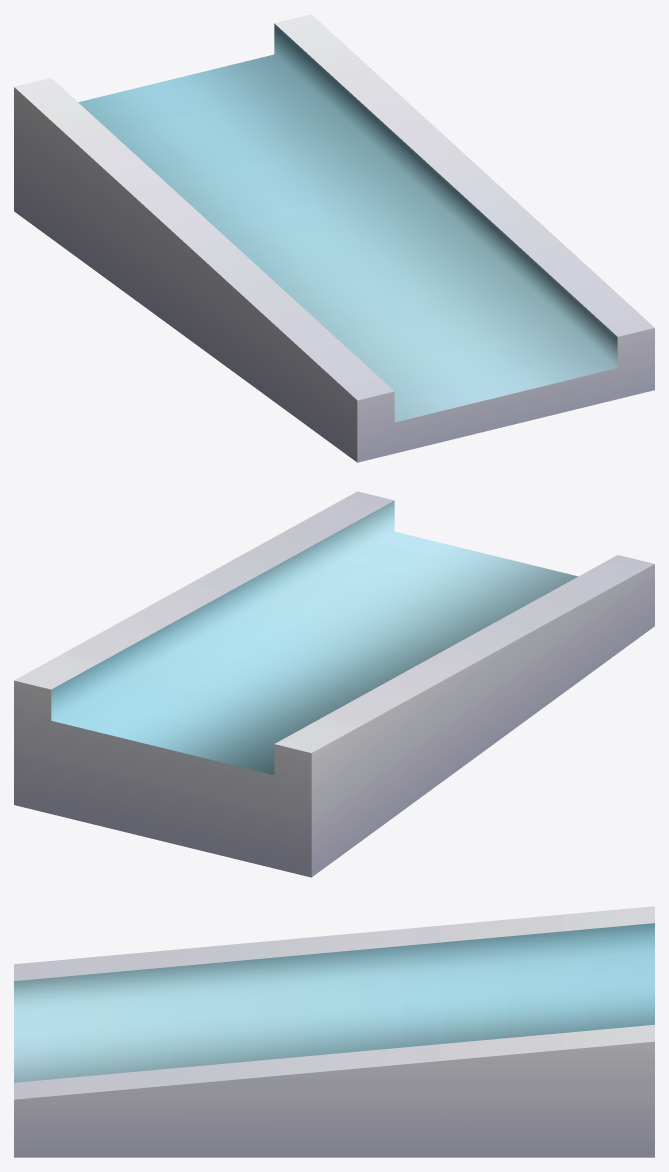
Rendered from kenney-tower-defense-snow-tile-straight-slope-large.glb.
The picture shows the model from 3 angles, top to bottom: view 1: azimuth 30°, elevation 25°; view 2: azimuth 150°, elevation 25°; view 3: azimuth 270°, elevation 25°; orthographic projection. The views are drawn at different scales.
Visible parts, largest first — view 1: snow-tile-straight-slope-large; view 2: snow-tile-straight-slope-large; view 3: snow-tile-straight-slope-large.
Part boxes in pixels (bbox=[...]): snow-tile-straight-slope-large: bbox=[14, 14, 654, 462]; snow-tile-straight-slope-large: bbox=[14, 491, 654, 877]; snow-tile-straight-slope-large: bbox=[14, 906, 654, 1157].
Bounding box in the file's own units: 1 × 0.3999 × 2.
Materials: 1 (1 with a texture image).
